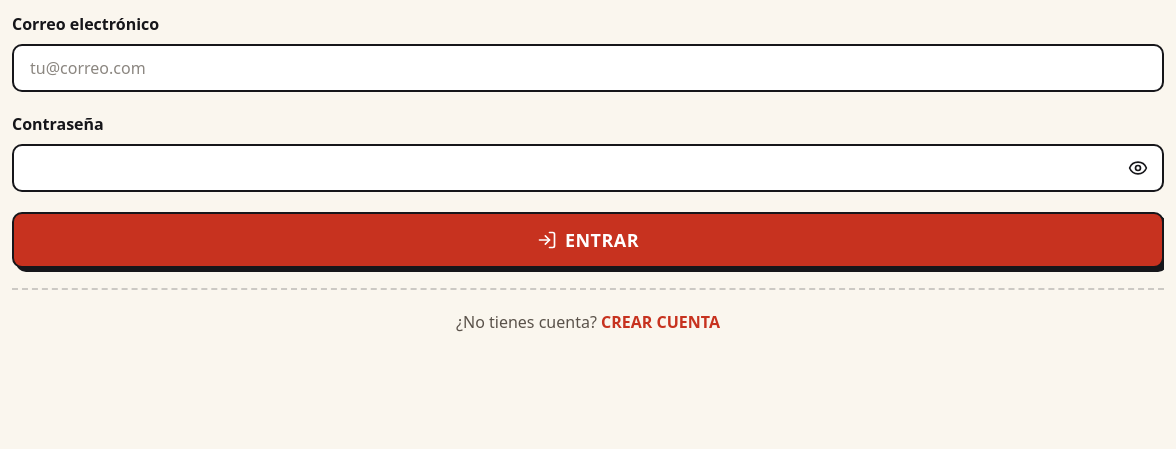
Scenario: LoginForm › muestra el error y limpia la contrasena
Type "ana@example.com" into the field labelled "Correo electrónico".
click(588, 68); type("ana@example.com")  # box top-left (12, 44), bottom-right (1164, 92)
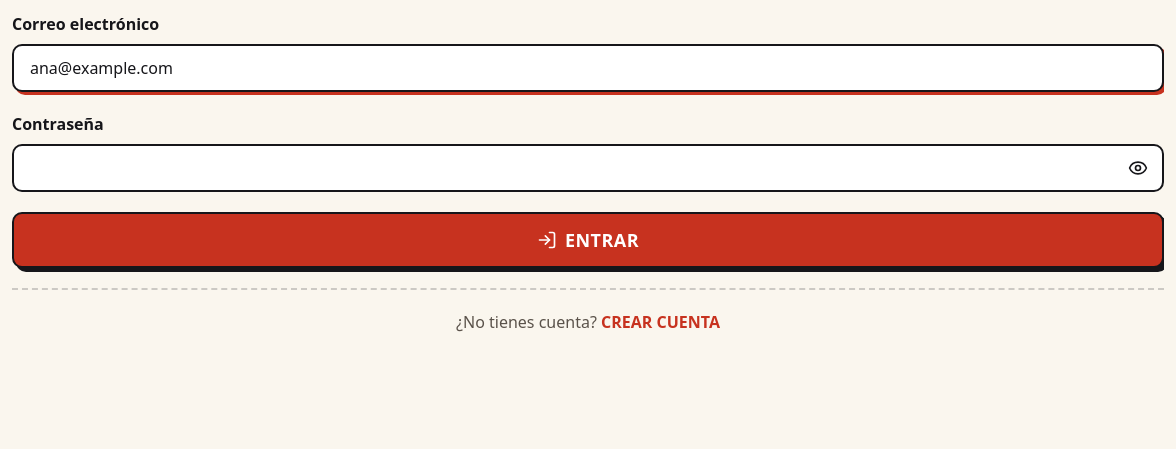
Type "mala clave 1" into the password field labelled "Contraseña".
click(588, 168); type("mala clave 1")  # box top-left (12, 144), bottom-right (1164, 192)
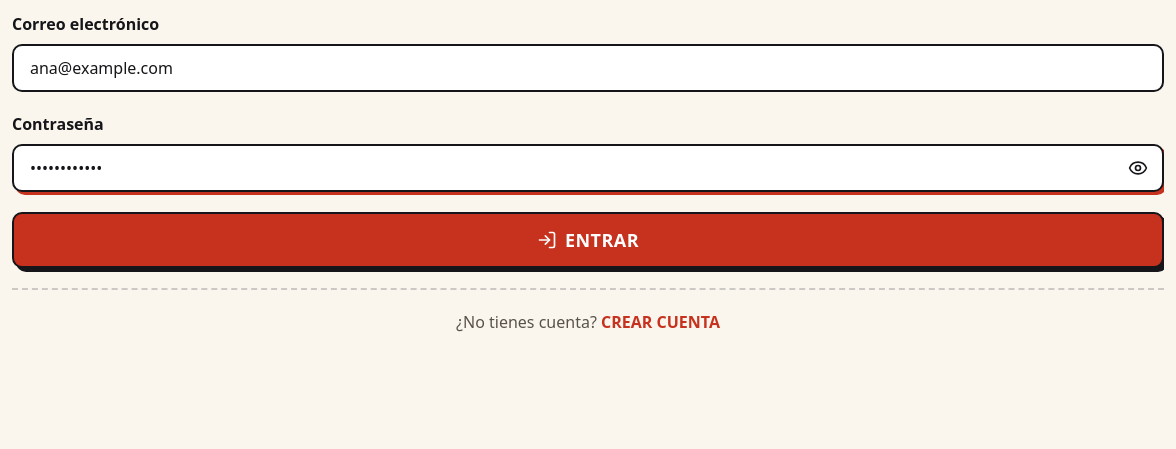
Click the button "Entrar".
click(588, 240)  # box top-left (12, 212), bottom-right (1164, 268)
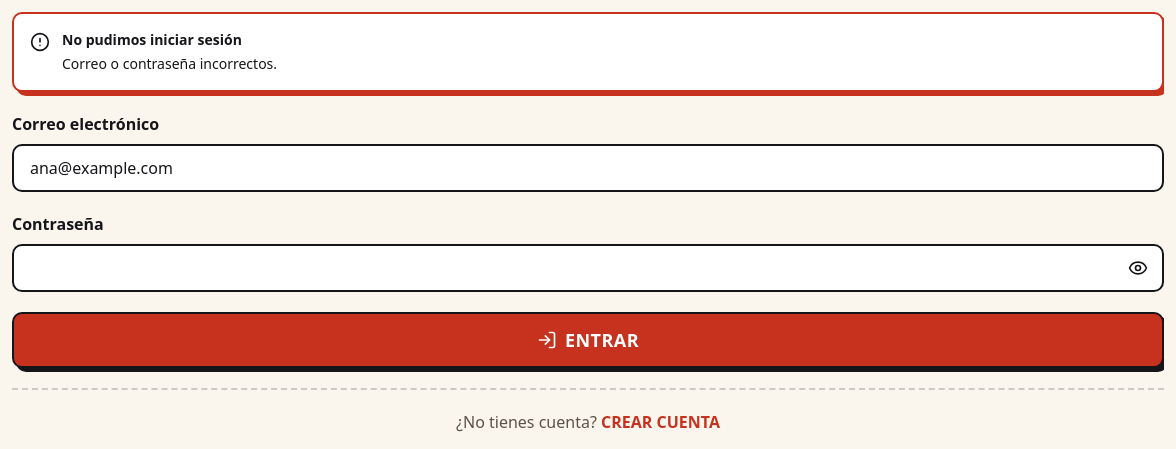
Check: the text "Correo o contraseña incorrectos." is shown, box top-left (62, 54), bottom-right (277, 74)
Check: the password field labelled "Contraseña" is empty, box top-left (12, 244), bottom-right (1164, 292)
